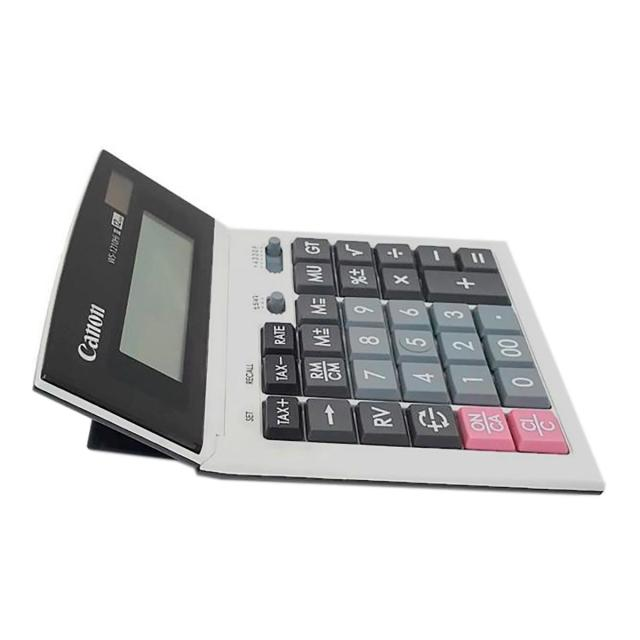Calculator: (19, 86, 640, 517)
